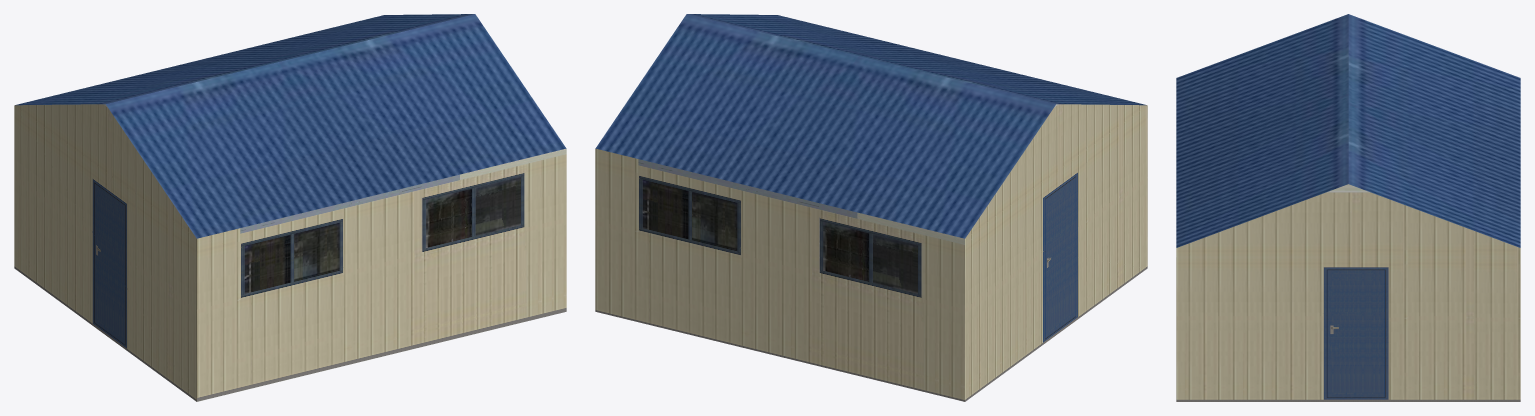
The model's file is shed-white-blue-6x5x3-cbj_LOD01.gltf.
3 renders of one model, left to right at view 1: azimuth 30°, elevation 25°; view 2: azimuth 150°, elevation 25°; view 3: azimuth 270°, elevation 25°, orthographic. The views are drawn at different scales.
Visible parts, largest first — view 1: Sketchup01; view 2: Sketchup01; view 3: Sketchup01.
Part boxes in pixels (x1,y1,x2,y2): Sketchup01: (14, 14, 566, 401); Sketchup01: (595, 14, 1147, 401); Sketchup01: (1176, 14, 1520, 401).
Bounding box in the file's own units: 5.5 × 3.28 × 4.7.
